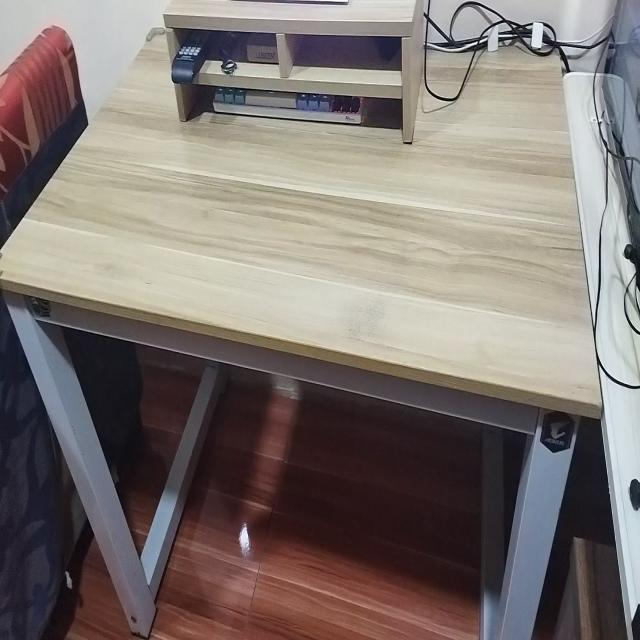table: (0, 22, 604, 640)
